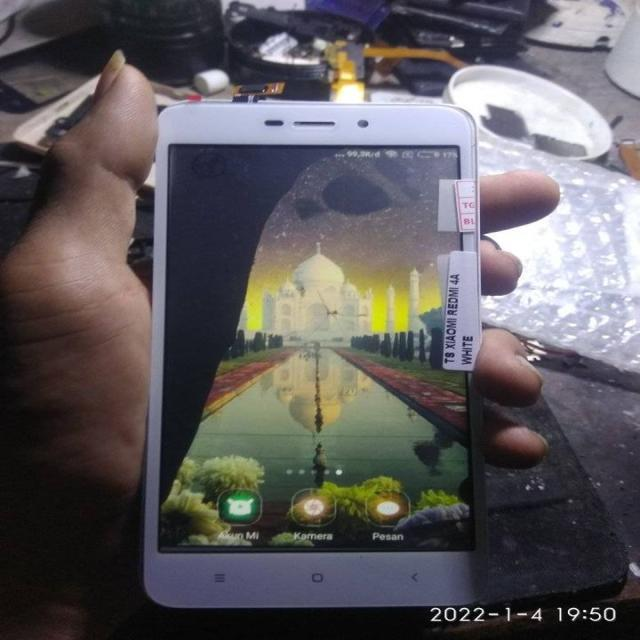phone: (152, 98, 490, 618)
